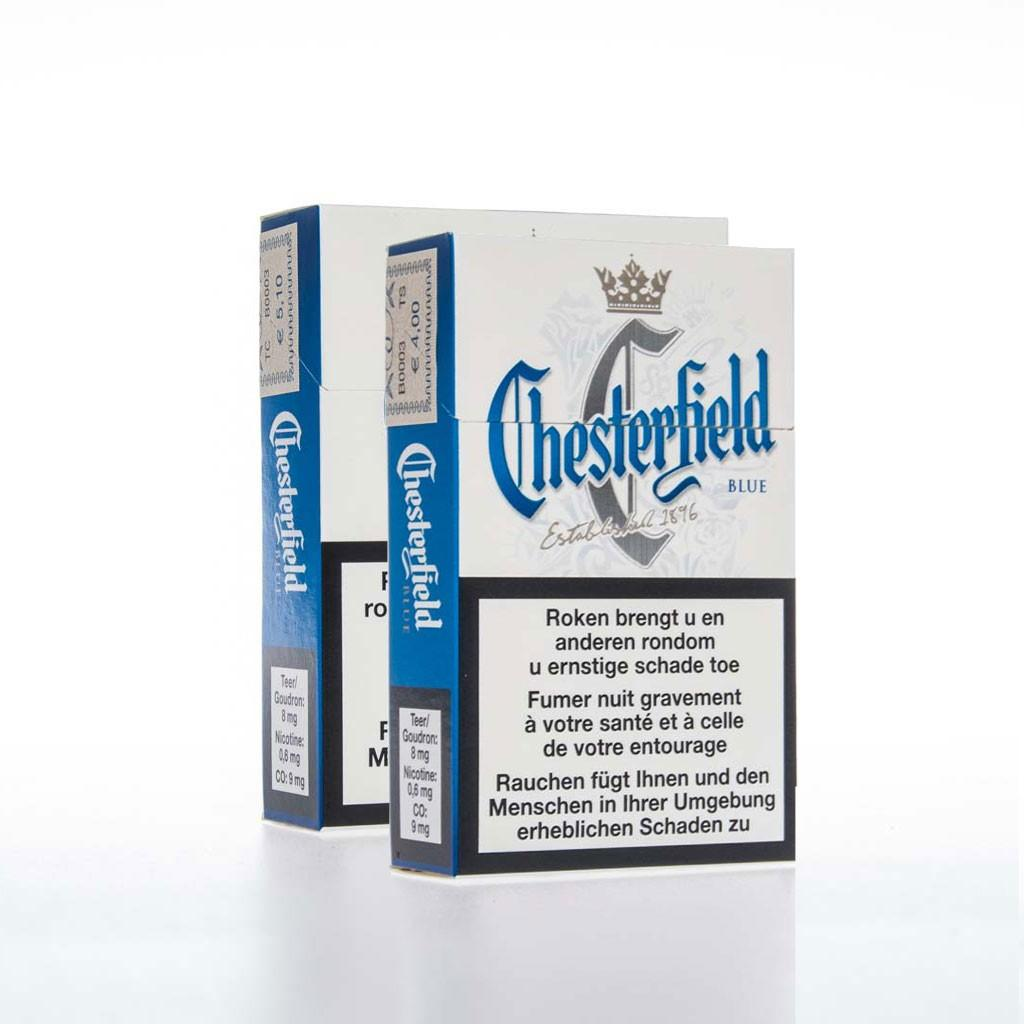chesterfield_blue: (453, 236, 793, 862)
